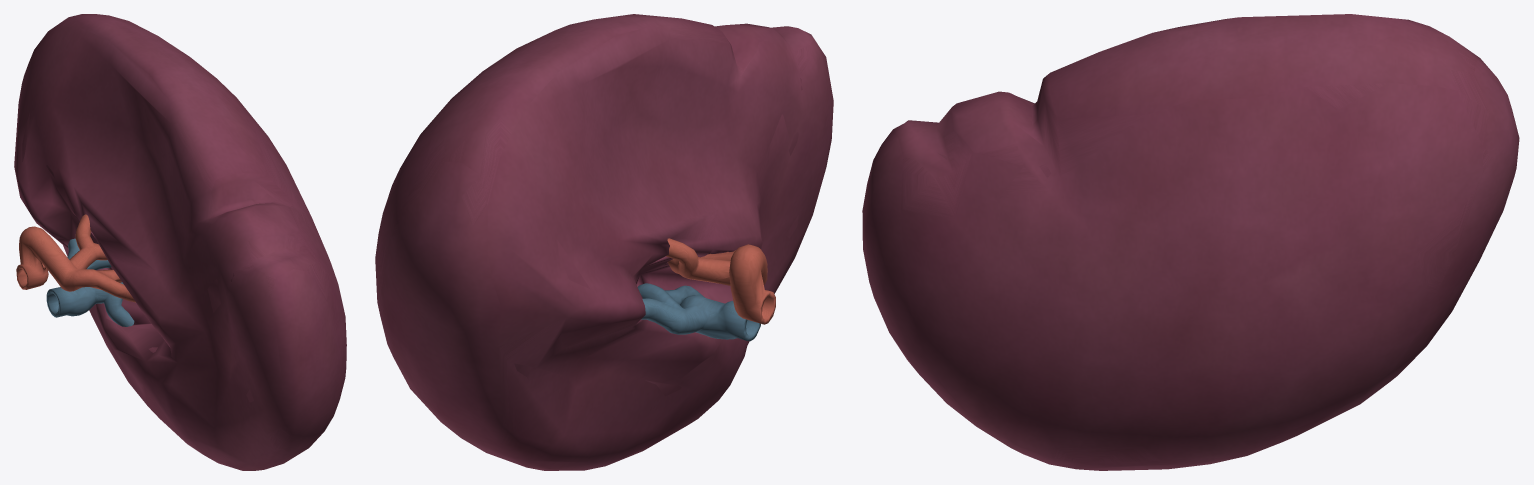
Rendered from overview.glb.
The picture shows the model from 3 angles, left to right: view 1: azimuth 30°, elevation 25°; view 2: azimuth 150°, elevation 25°; view 3: azimuth 270°, elevation 25°; orthographic projection. The views are drawn at different scales.
Visible parts, largest first — view 1: spleen; view 2: spleen; view 3: spleen.
Boxes of the visible parts, x1,y1,x2,y2 form: spleen: (14, 14, 346, 470); spleen: (375, 14, 833, 470); spleen: (862, 14, 1519, 470).
Size of the model in its own units: 0.0555 by 0.0719 by 0.0986.
Materials: 3 (3 with a texture image).
